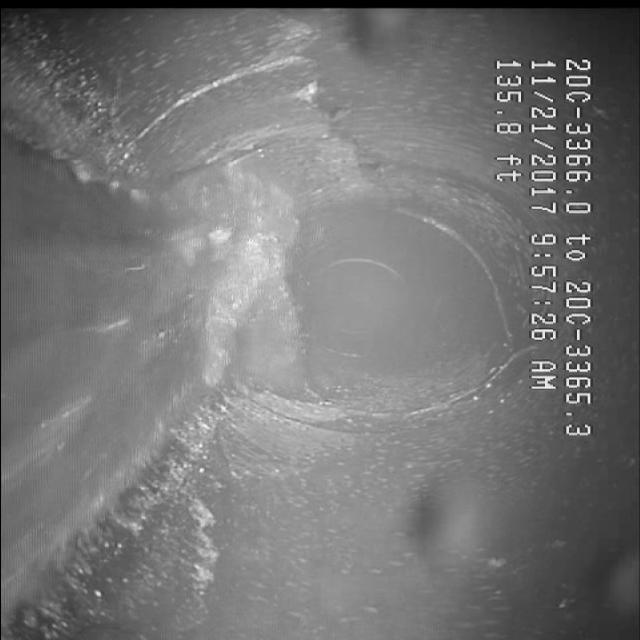Crack: (114, 36, 375, 186)
